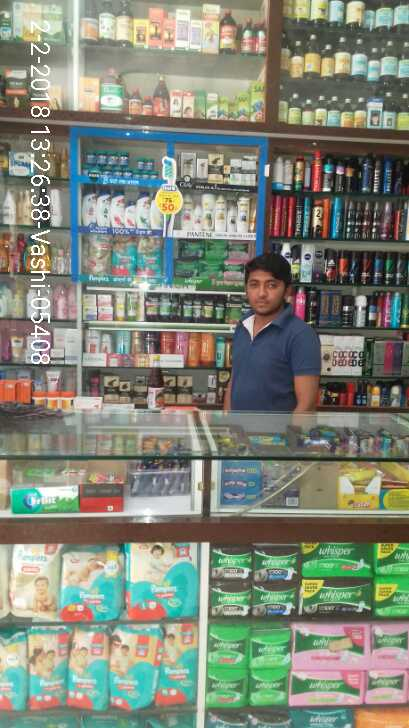beauty: (180, 180, 257, 241), (170, 147, 260, 190), (122, 196, 149, 236), (111, 182, 125, 232), (81, 182, 97, 225), (95, 182, 108, 229)
pharmacy: (124, 541, 201, 618), (59, 544, 124, 623), (104, 621, 158, 711), (289, 616, 375, 669), (85, 137, 169, 187), (69, 618, 111, 716), (26, 616, 65, 716), (156, 622, 199, 708), (288, 537, 374, 579), (288, 663, 363, 705), (296, 578, 374, 612), (362, 622, 409, 670), (254, 539, 300, 584), (252, 621, 294, 669), (204, 577, 250, 619), (209, 620, 250, 667), (201, 669, 250, 707), (209, 539, 252, 582), (370, 670, 409, 709), (138, 227, 164, 281), (80, 230, 111, 275), (252, 584, 297, 615), (245, 675, 290, 706), (111, 231, 135, 276), (203, 243, 235, 271), (176, 241, 206, 265), (165, 259, 199, 280), (202, 262, 224, 282)
